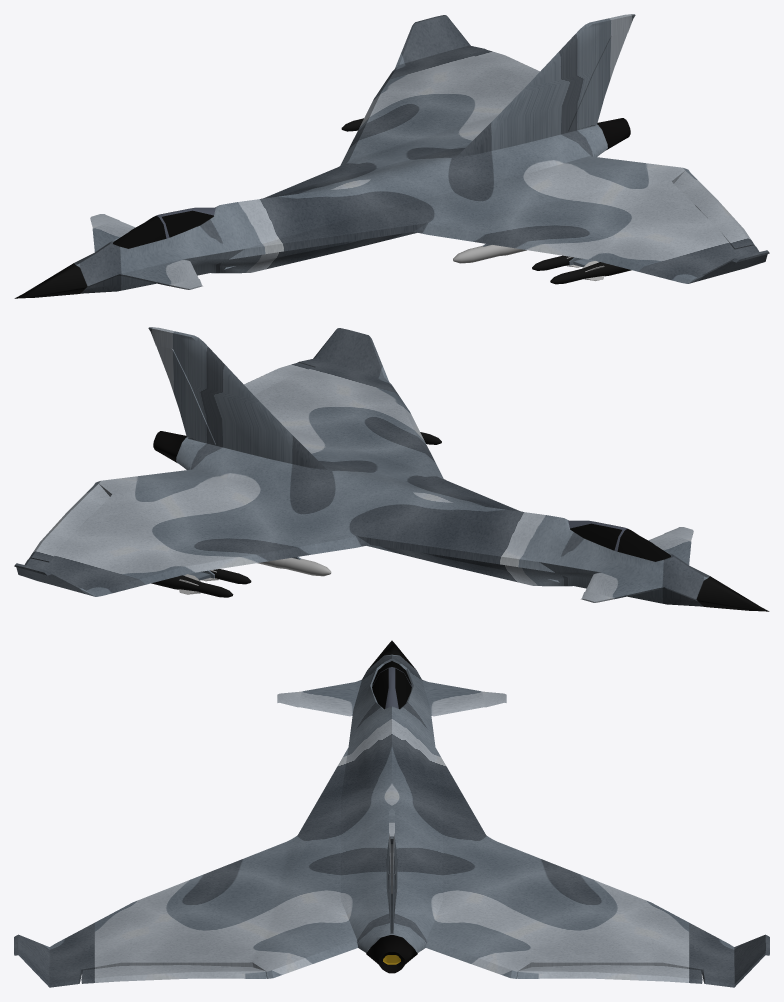
File: skyfighter lowpoly obj.obj
3 views of the same model, one above another, from view 1: azimuth 30°, elevation 25°; view 2: azimuth 150°, elevation 25°; view 3: azimuth 270°, elevation 25° (orthographic). The views are drawn at different scales.
Parts seen in each view (by area): view 1: Cube.008, Cube.001, Cube.002, Circle.002_Circle.006, Circle.001_Circle.005, Cube.003; view 2: Cube.008, Cube.001, Cube.002, Circle.004_Circle.003, Circle.006_Circle.011, Cube.003; view 3: Cube.008, Cube.001, Cube.003.
Part boxes in pixels (bbox=[...]): Cube.008: bbox=[74, 14, 769, 293]; Cube.001: bbox=[113, 207, 215, 248]; Cube.002: bbox=[14, 263, 87, 298]; Circle.002_Circle.006: bbox=[550, 261, 631, 284]; Circle.001_Circle.005: bbox=[453, 245, 526, 263]; Cube.003: bbox=[590, 118, 630, 149]; Cube.008: bbox=[14, 327, 709, 606]; Cube.001: bbox=[568, 520, 670, 561]; Cube.002: bbox=[696, 576, 769, 611]; Circle.004_Circle.003: bbox=[151, 574, 233, 597]; Circle.006_Circle.011: bbox=[257, 558, 331, 576]; Cube.003: bbox=[153, 431, 193, 462]; Cube.008: bbox=[14, 654, 769, 987]; Cube.001: bbox=[372, 661, 411, 709]; Cube.003: bbox=[366, 935, 417, 973].
Bounding box in the file's own units: 31.58 × 7.85 × 28.46.
